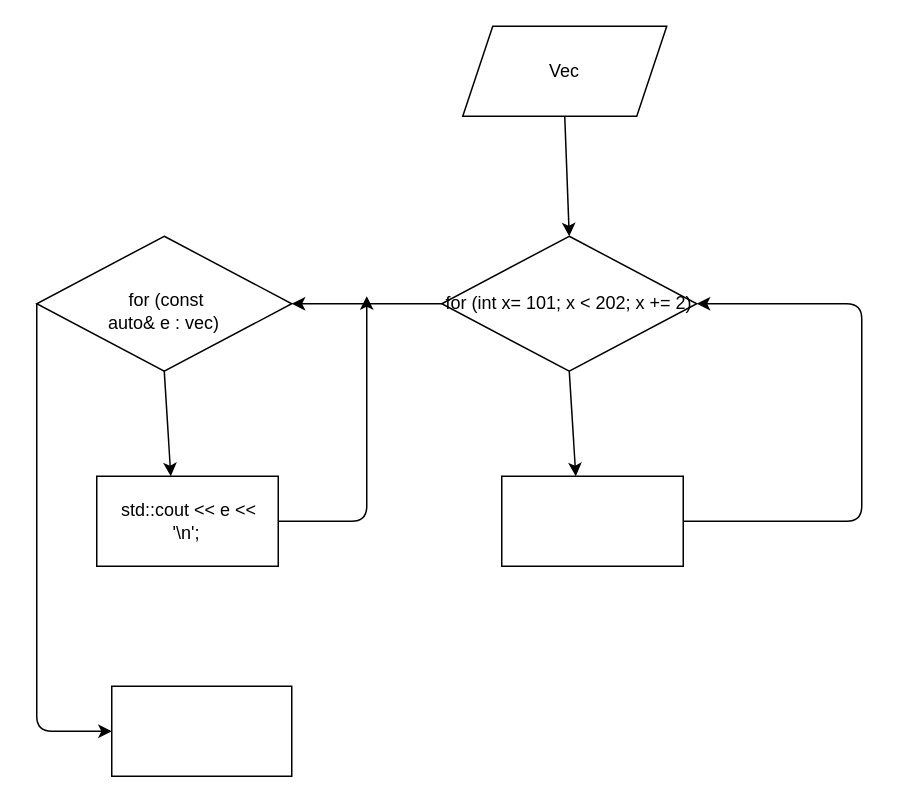
The diagram is 900 pixels wide and 803 high, and some of its shapes have lost their labels. Here are the shapes that lost their labels. From the top down, the centre of each, then its label:
At point (591, 520): "push_back(x)".
At point (201, 730): "Кінець програми".
